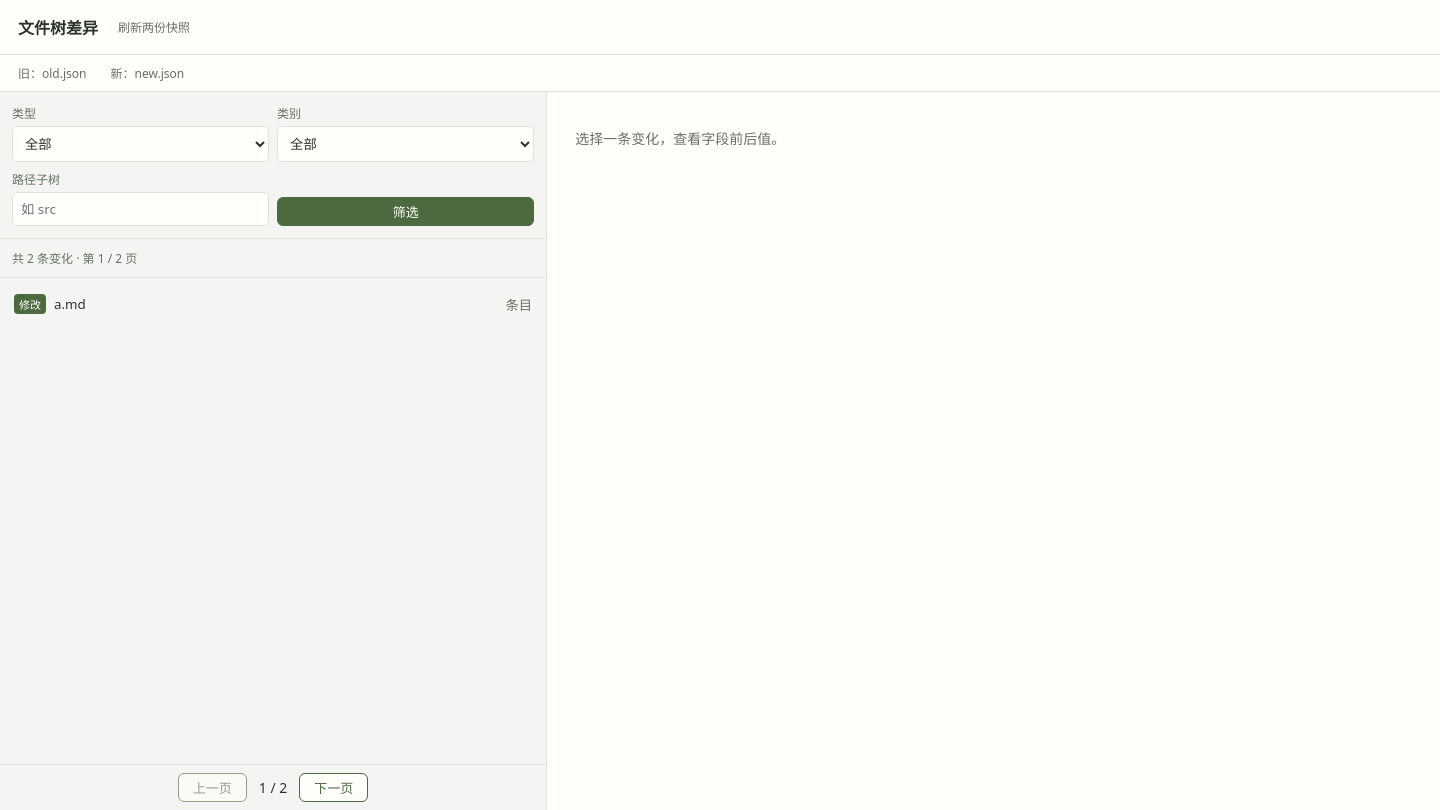
Test: DiffViewer › shows paged changes and before/after details
This screenshot has width=1440, height=810.
Click the button "修改 a.md 条目": x=30, y=304 [6,284,540,324]
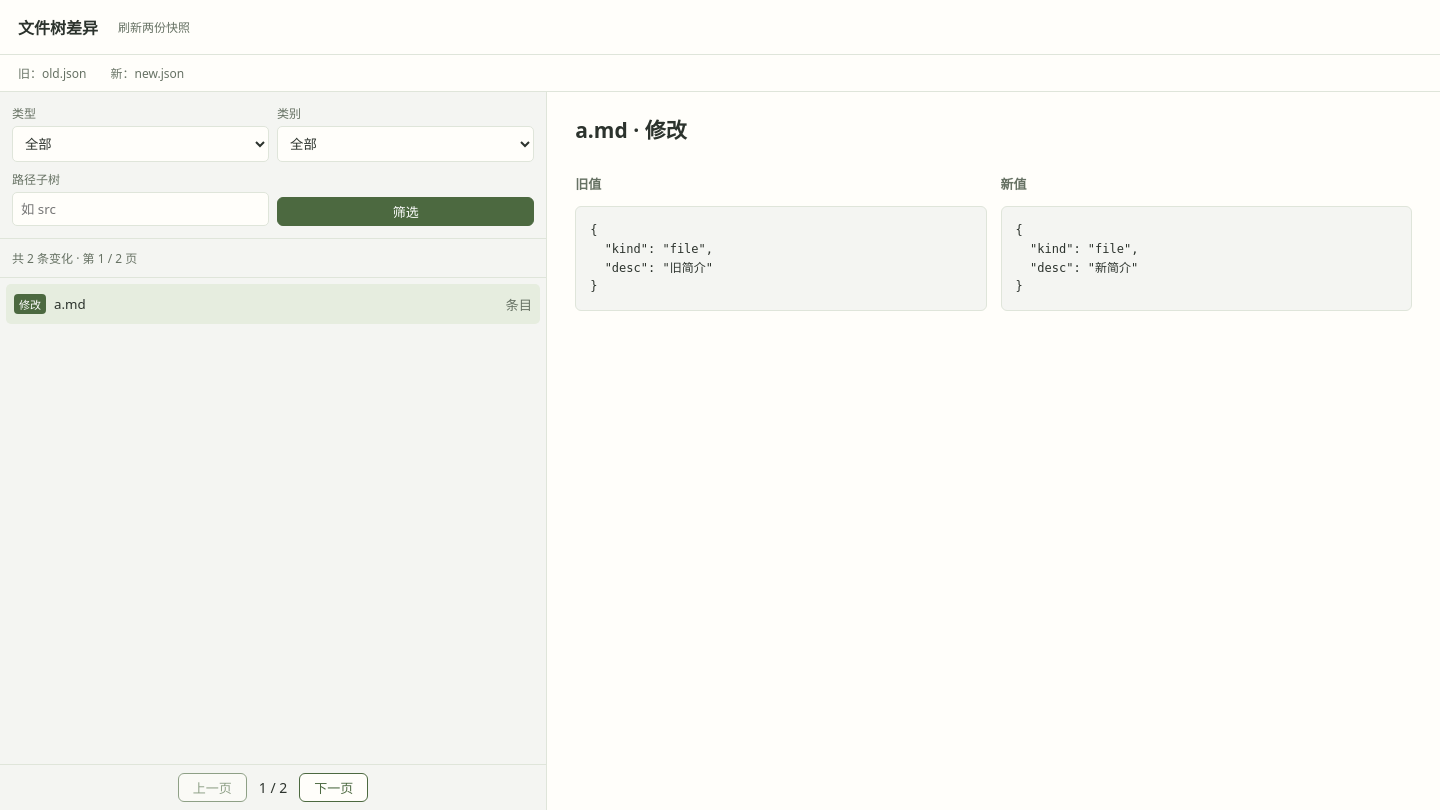
Check: the text "{ \"kind\": \"file\", \"desc\": \"旧简介\" }" is shown, box [575,206,987,311]
Check: the text "{ \"kind\": \"file\", \"desc\": \"新简介\" }" is shown, box [1001,206,1412,311]
Click the button "下一页": x=334, y=788 [299,773,368,802]
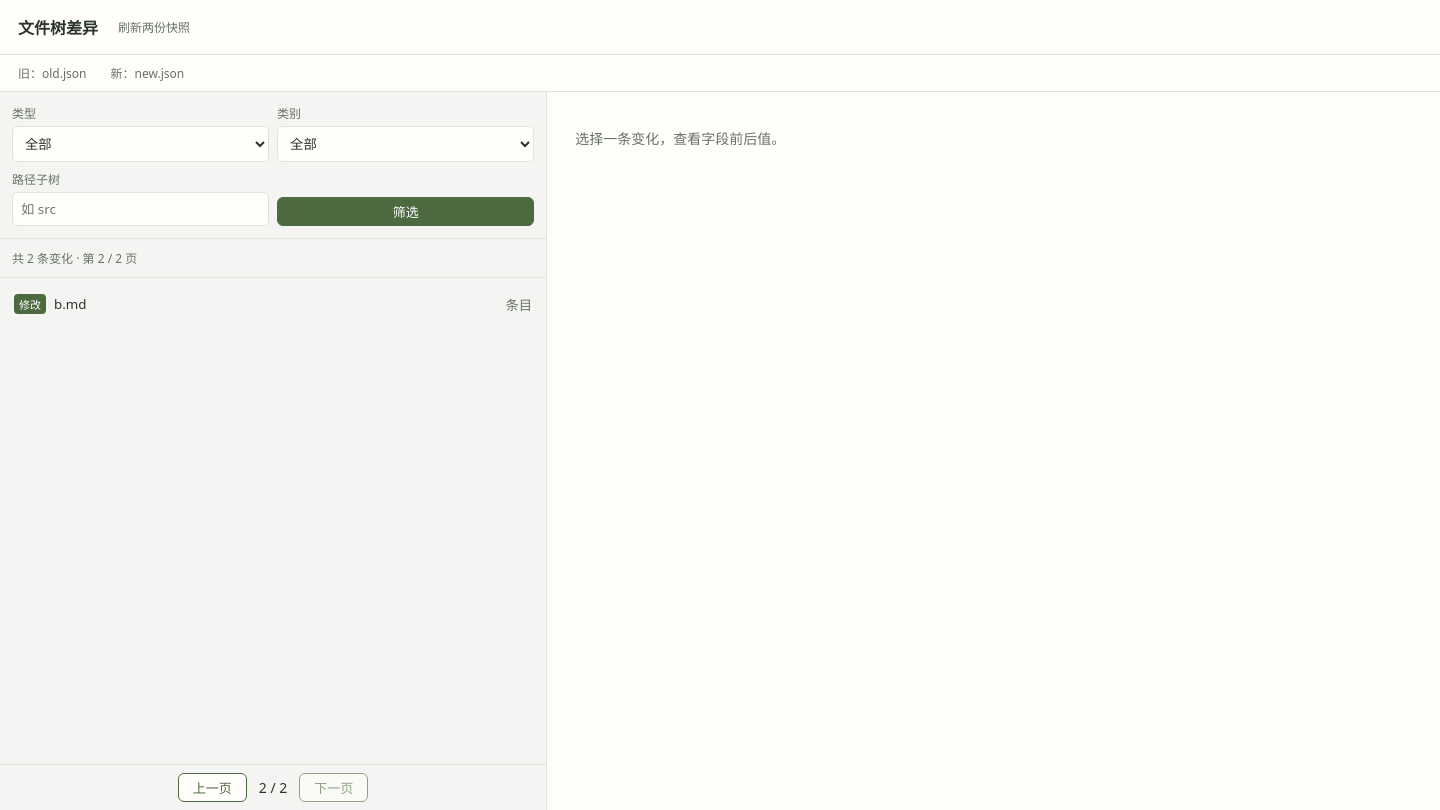
Check: the button "修改 b.md 条目" is shown, box [6,284,540,324]
